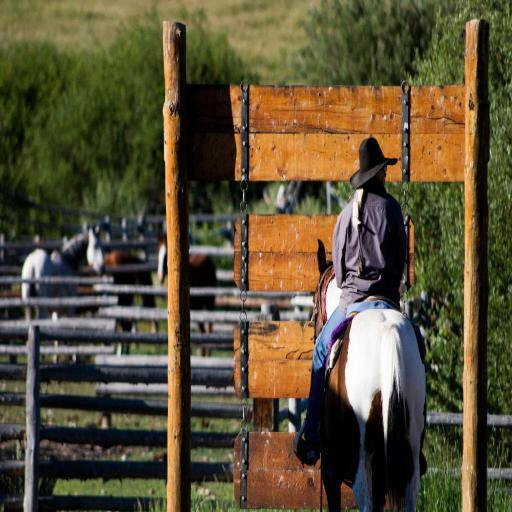horse: (312, 238, 427, 512), (18, 218, 106, 350), (79, 252, 162, 357), (156, 230, 218, 356)
